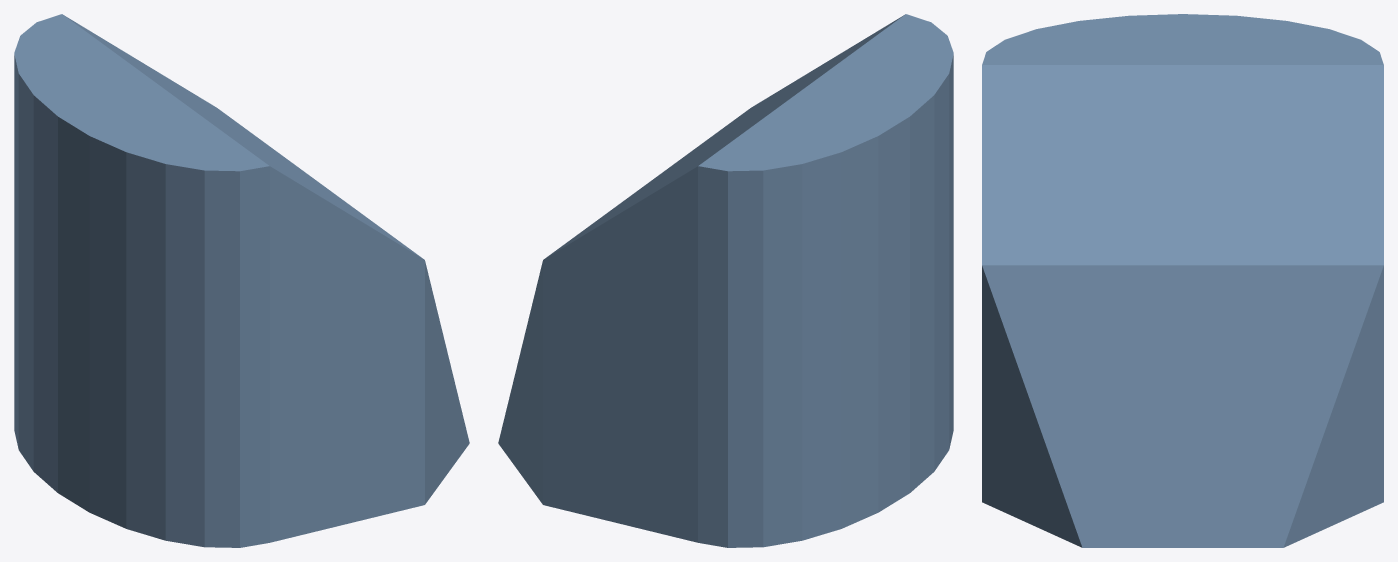
Rendered from computer-mouse.glb.
3 renders of one model, left to right at view 1: azimuth 30°, elevation 25°; view 2: azimuth 150°, elevation 25°; view 3: azimuth 270°, elevation 25°, orthographic. The views are drawn at different scales.
Size of the model in its own units: 1 by 1 by 1.
